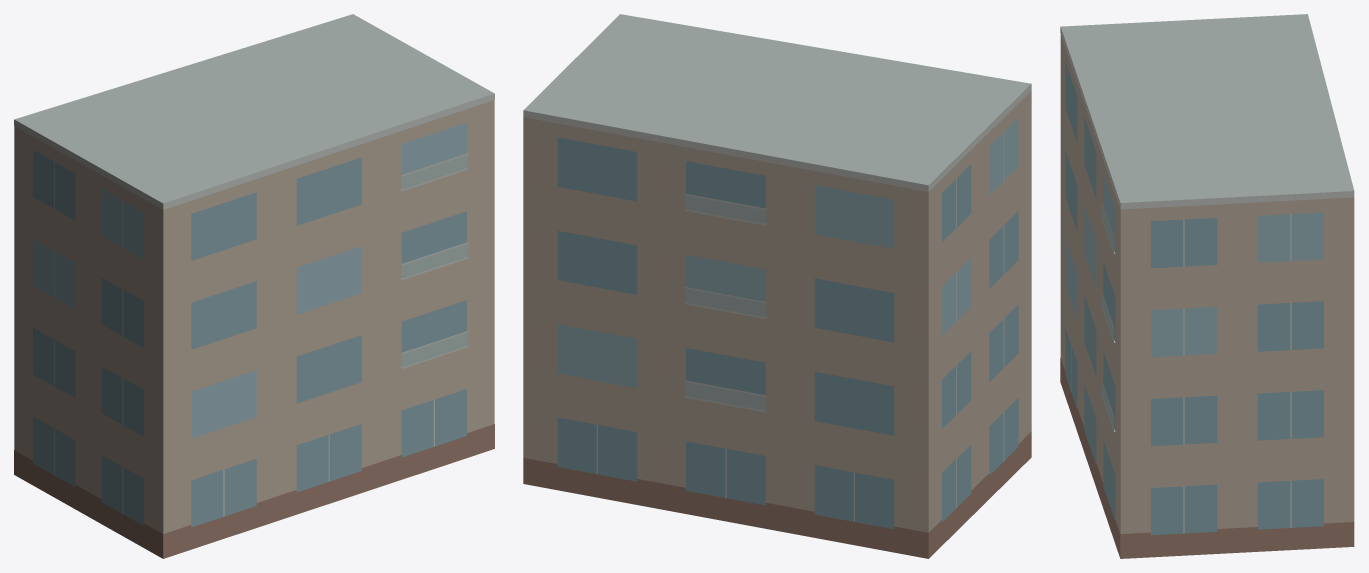
Rendered from survey-upis-32977011.glb.
The picture shows the model from 3 angles, left to right: view 1: azimuth 30°, elevation 25°; view 2: azimuth 150°, elevation 25°; view 3: azimuth 270°, elevation 25°; orthographic projection. The views are drawn at different scales.
Visible parts, largest first — view 1: survey-upis-32977011.tmp; view 2: survey-upis-32977011.tmp; view 3: survey-upis-32977011.tmp.
Part boxes in pixels (left/top/right/bottom): survey-upis-32977011.tmp: left=14, top=14, right=494, bottom=558; survey-upis-32977011.tmp: left=523, top=14, right=1031, bottom=558; survey-upis-32977011.tmp: left=1060, top=14, right=1354, bottom=558.
Size of the model in its own units: 15.4 by 13.5 by 10.12.
